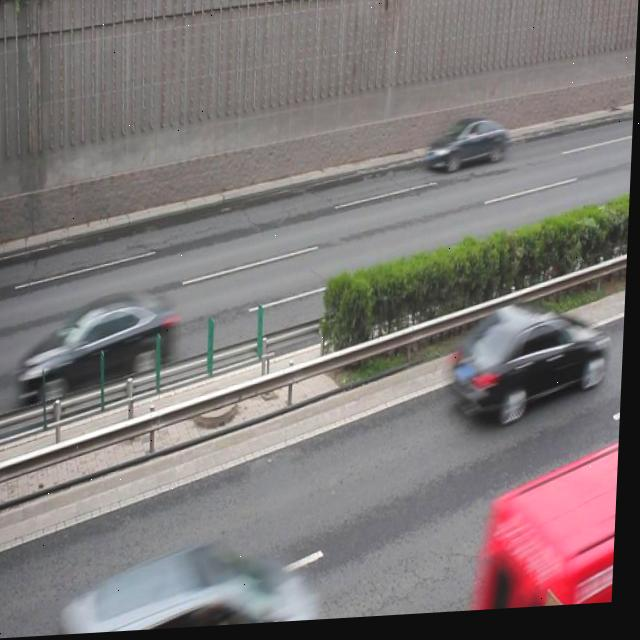car: (67, 532, 326, 636), (16, 290, 182, 405), (452, 303, 602, 428), (427, 117, 507, 177)
truck: (477, 457, 623, 617)
